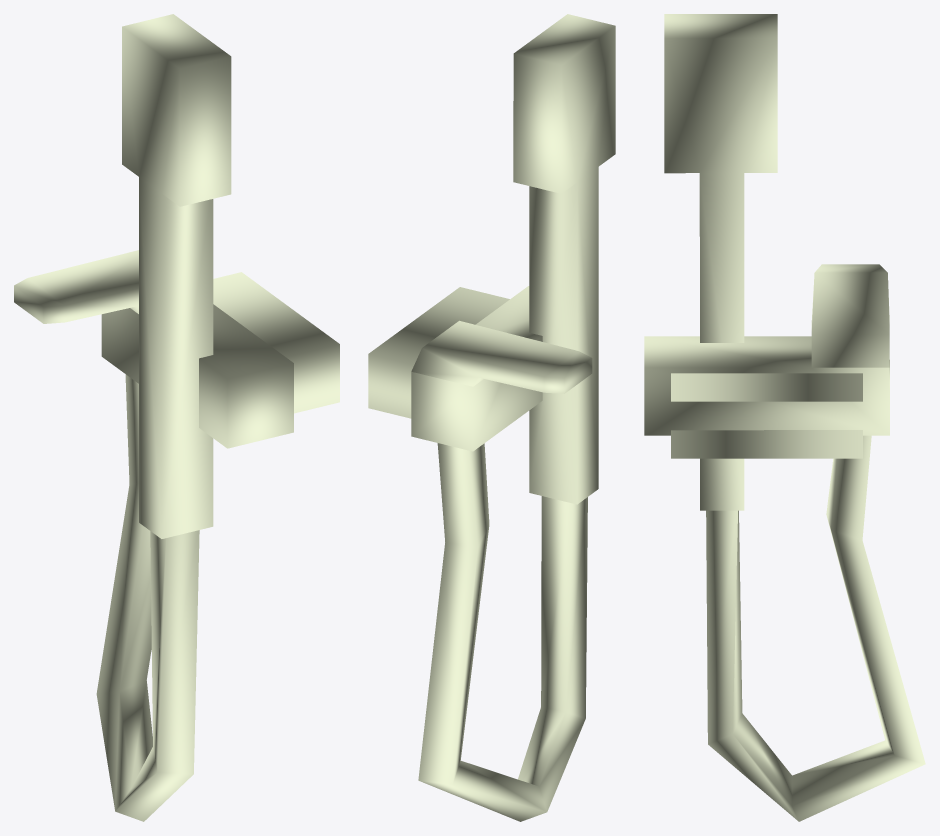
The model's file is hotl_shower.FBX.
3 renders of one model, left to right at view 1: azimuth 30°, elevation 25°; view 2: azimuth 150°, elevation 25°; view 3: azimuth 270°, elevation 25°, orthographic. The views are drawn at different scales.
Visible parts, largest first — view 1: shower; view 2: shower; view 3: shower.
Part boxes in pixels (left/top/right/bottom): shower: left=14, top=14, right=339, bottom=821; shower: left=368, top=14, right=615, bottom=821; shower: left=644, top=14, right=925, bottom=821.
Size of the model in its own units: 0.2191 by 0.7758 by 0.2498.
